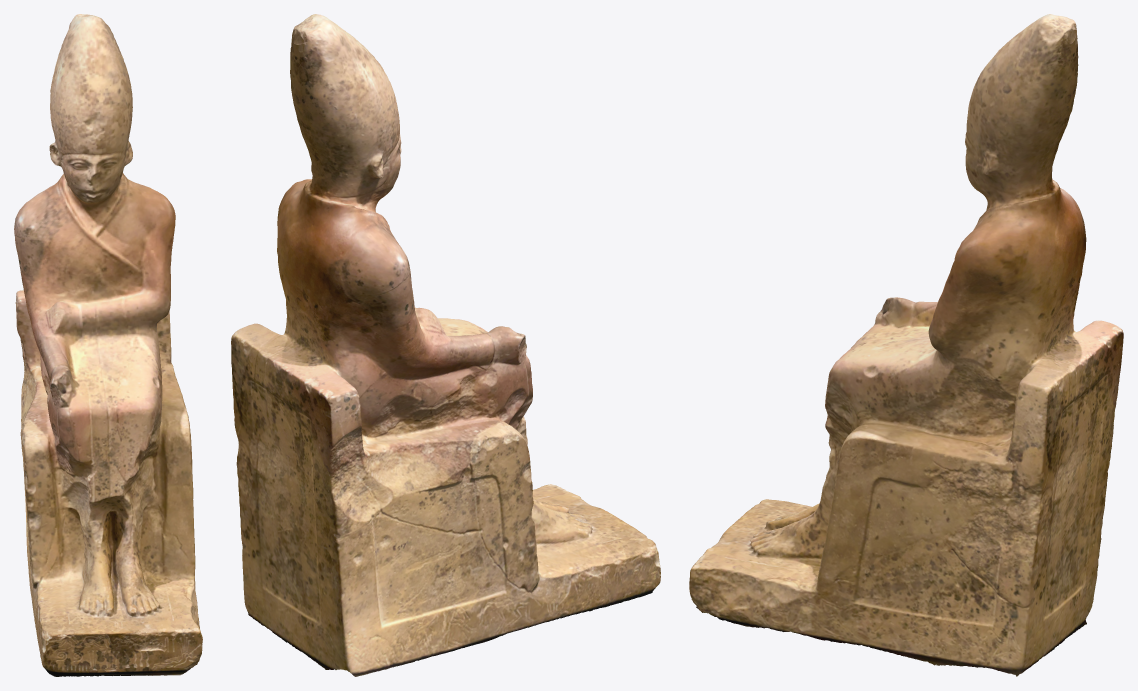
File: egyptian_pharoah_khasekhemwy_-_oxford_ashmoleon.glb
The picture shows the model from 3 angles, left to right: view 1: azimuth 30°, elevation 25°; view 2: azimuth 150°, elevation 25°; view 3: azimuth 270°, elevation 25°; orthographic projection. The views are drawn at different scales.
Parts seen in each view (by area): view 1: scan_0 (×4), scan_1; view 2: scan_0 (×3), scan_1; view 3: scan_0 (×4), scan_1.
Boxes of the visible parts, x1,y1,x2,y2 form: scan_0 (×4): (14, 14, 202, 676); scan_1: (16, 15, 202, 675); scan_0 (×3): (231, 18, 655, 676); scan_1: (231, 14, 660, 627); scan_0 (×4): (689, 17, 1123, 676); scan_1: (689, 14, 1108, 631).
Size of the model in its own units: 0.2968 by 0.6277 by 0.3957.
2 materials, 2 textured.
